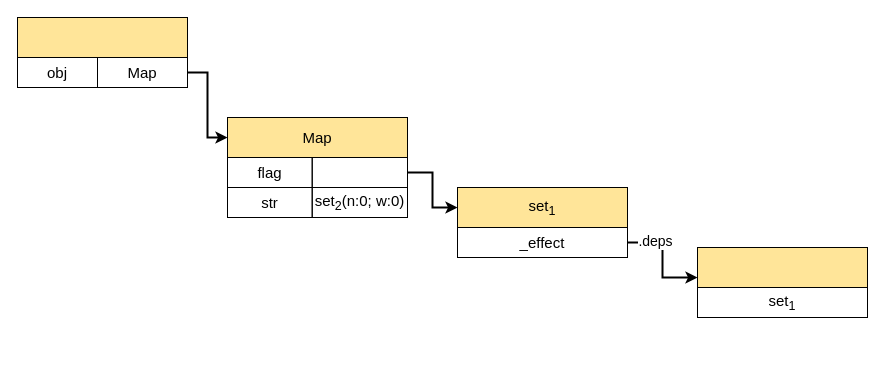
Image size: 885x365. Some labels were removed from this diagram. Each missing label, with the box of its shape:
Array: (696, 246, 868, 288)
set 1 (n:0; w:0): (311, 156, 408, 188)
targetMap:WeakMap: (16, 16, 188, 58)
